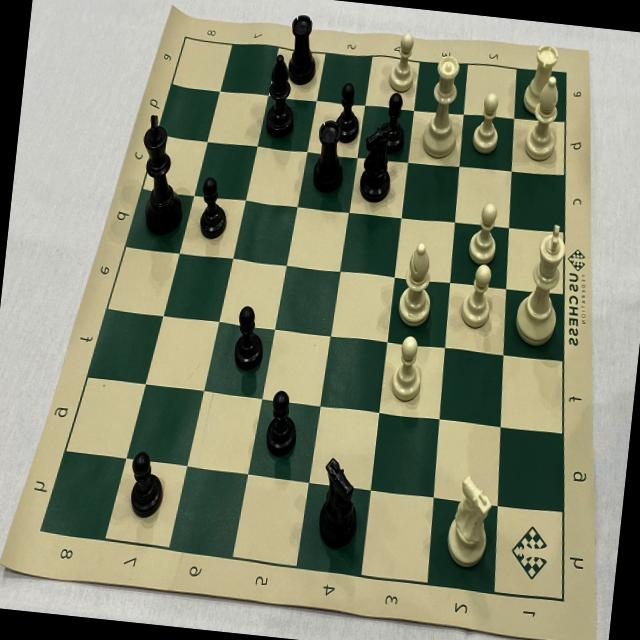black-bishop: (256, 48, 302, 144)
black-king: (128, 102, 196, 240)
black-knight: (310, 448, 370, 554), (351, 120, 401, 208)
black-pawn: (121, 438, 172, 527), (226, 295, 273, 377), (260, 382, 304, 463), (192, 170, 236, 244), (374, 82, 412, 158), (328, 74, 367, 147)
black-rook: (280, 7, 328, 92), (302, 116, 351, 198)
white-bishop: (392, 236, 440, 332), (520, 70, 566, 167)
white-king: (506, 215, 574, 354)
white-knight: (438, 468, 500, 574)
white-pawn: (386, 329, 431, 409), (454, 258, 498, 337), (462, 196, 504, 272), (384, 26, 423, 99), (466, 87, 506, 158)
white-queen: (416, 46, 467, 162)
white-rook: (516, 35, 562, 120)
